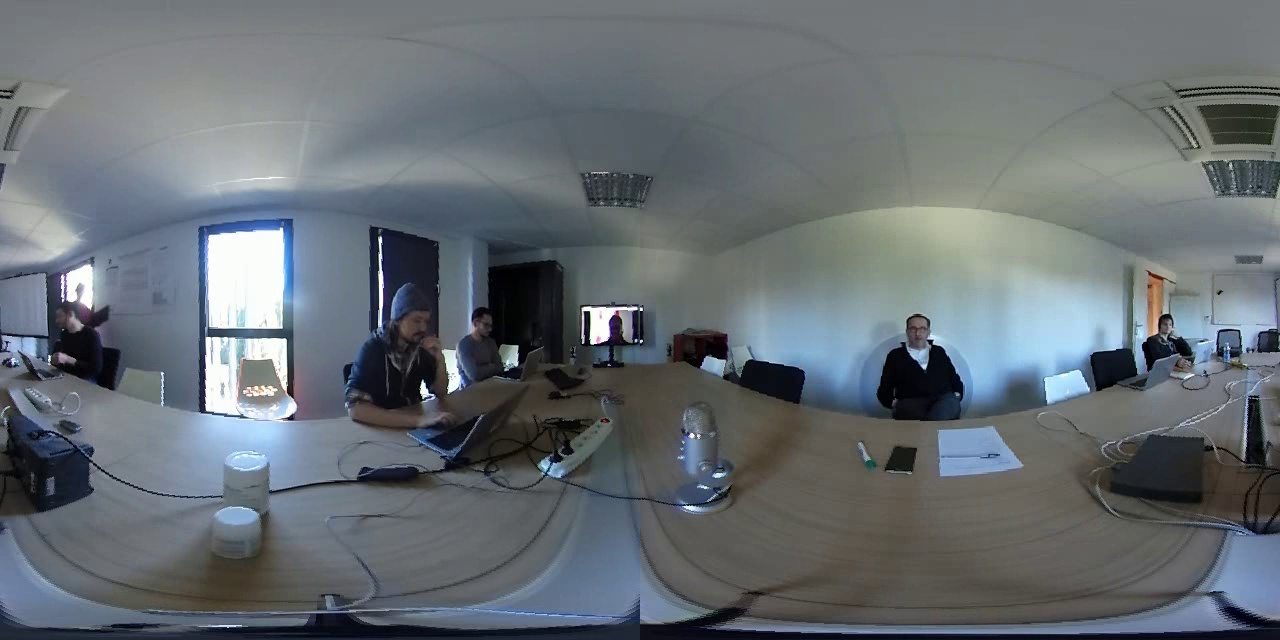person: (341, 270, 449, 435), (870, 301, 967, 415), (44, 298, 105, 389), (459, 295, 502, 380), (1143, 301, 1197, 362), (588, 304, 638, 341), (67, 279, 97, 307)
